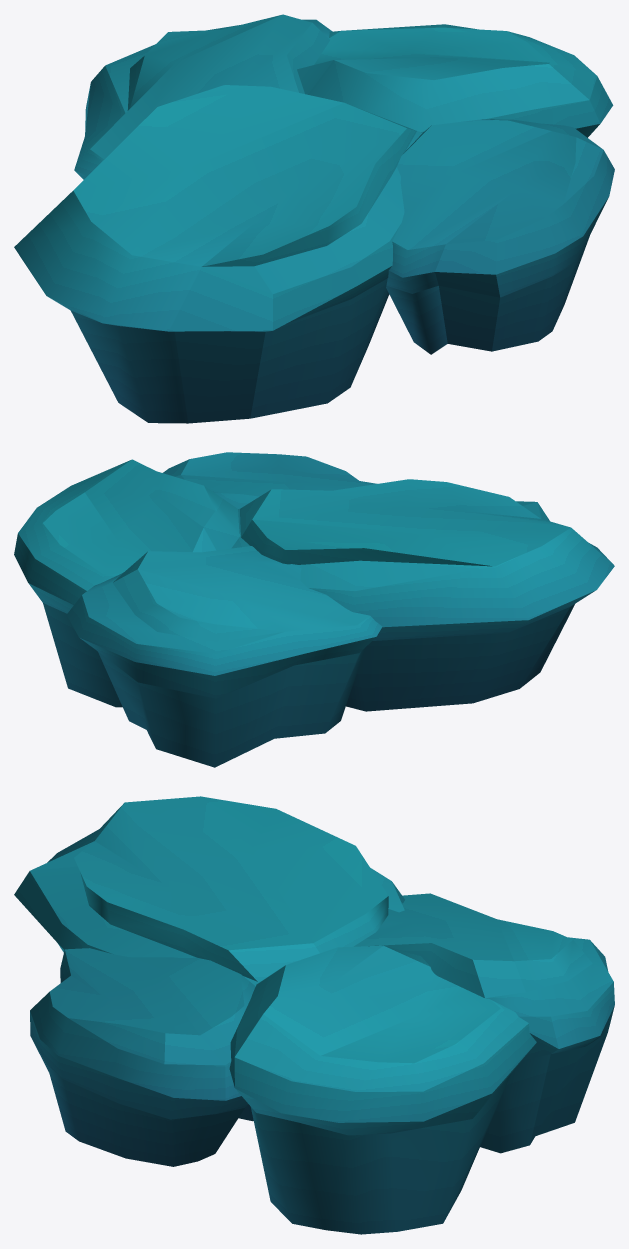
The model's file is RockF.fbx.
The picture shows the model from 3 angles, top to bottom: view 1: azimuth 30°, elevation 25°; view 2: azimuth 150°, elevation 25°; view 3: azimuth 270°, elevation 25°; orthographic projection. The views are drawn at different scales.
Visible parts, largest first — view 1: RockF; view 2: RockF; view 3: RockF.
Part boxes in pixels (x1,y1,x2,y2): RockF: [14, 14, 614, 423]; RockF: [14, 452, 614, 767]; RockF: [14, 796, 614, 1234].
Bounding box in the file's own units: 214 × 73.32 × 181.
1 material, 1 textured.
